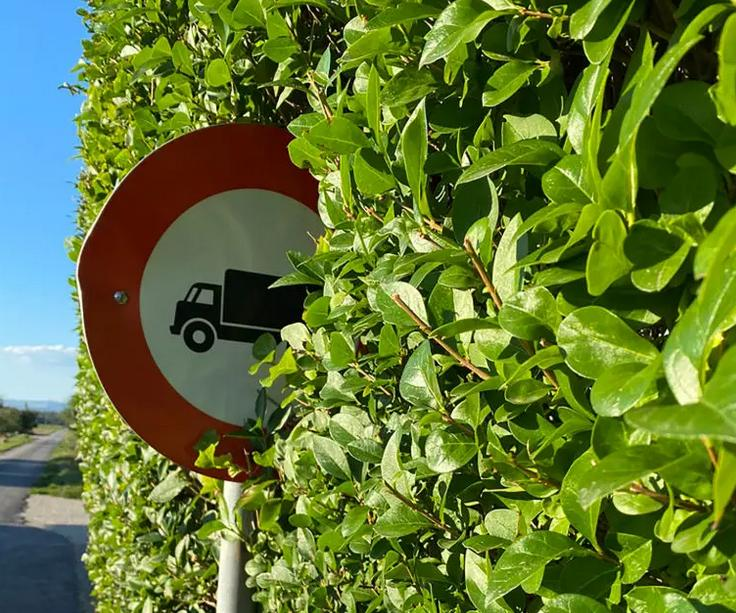obstructed_road_sign: (77, 123, 320, 483)
